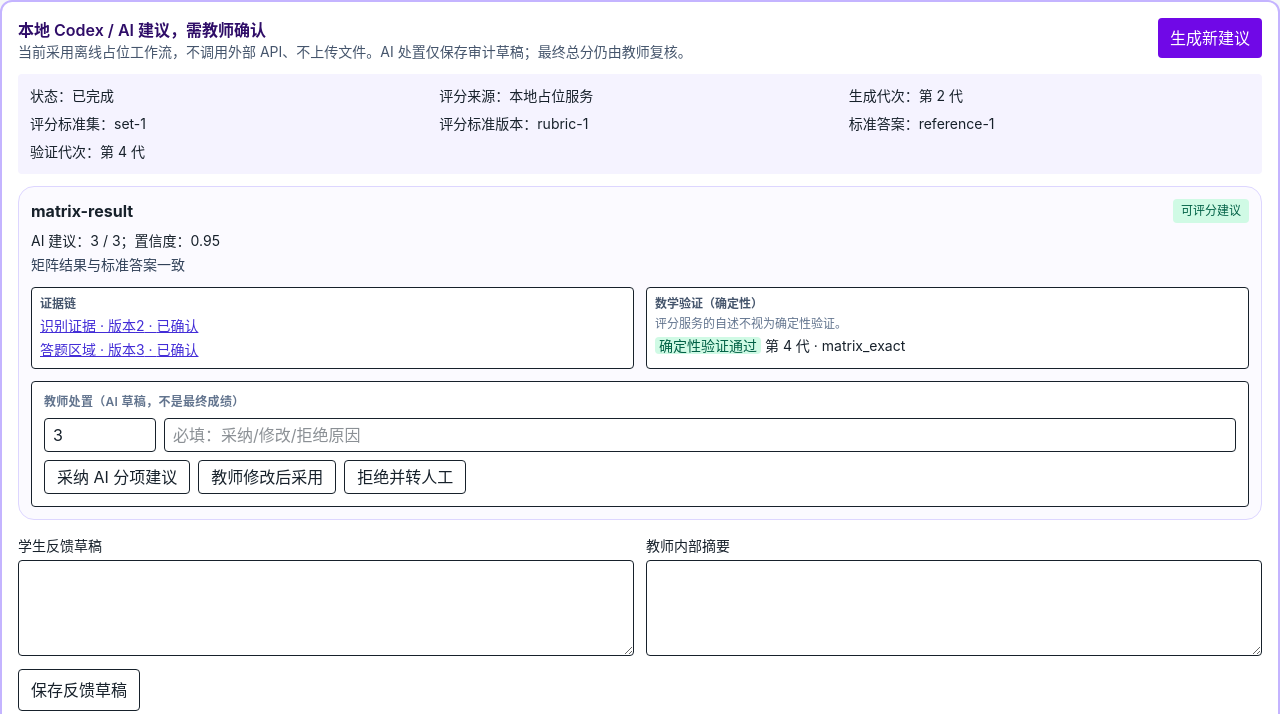
AIGradingReview › records a rejection reason and keeps manual grading available
expect the text "matrix-result" is shown: met, box [31,199,133,223]
Step 1. Type "步骤证据不足，转人工" into the field named "matrix-result 修改原因" → (700, 435), box [164,418,1236,452]
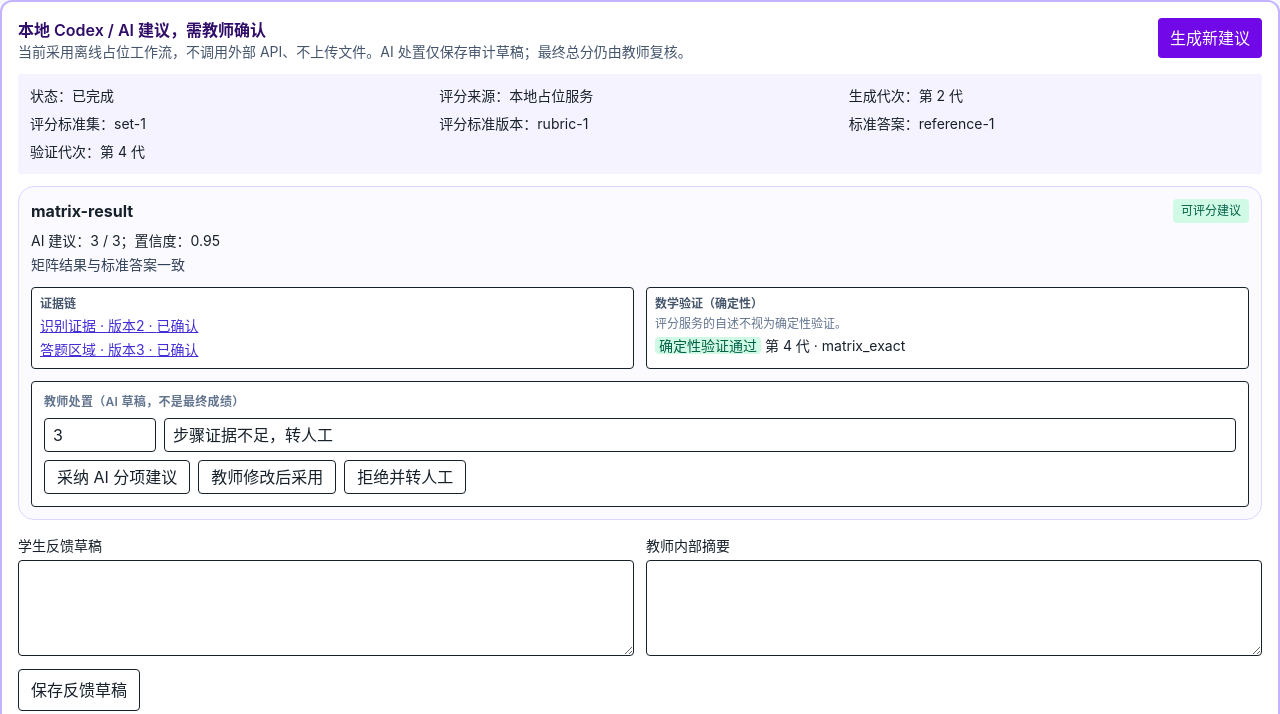
Step 2. Click the button "拒绝并转人工" → (405, 477), box [344,460,466,494]
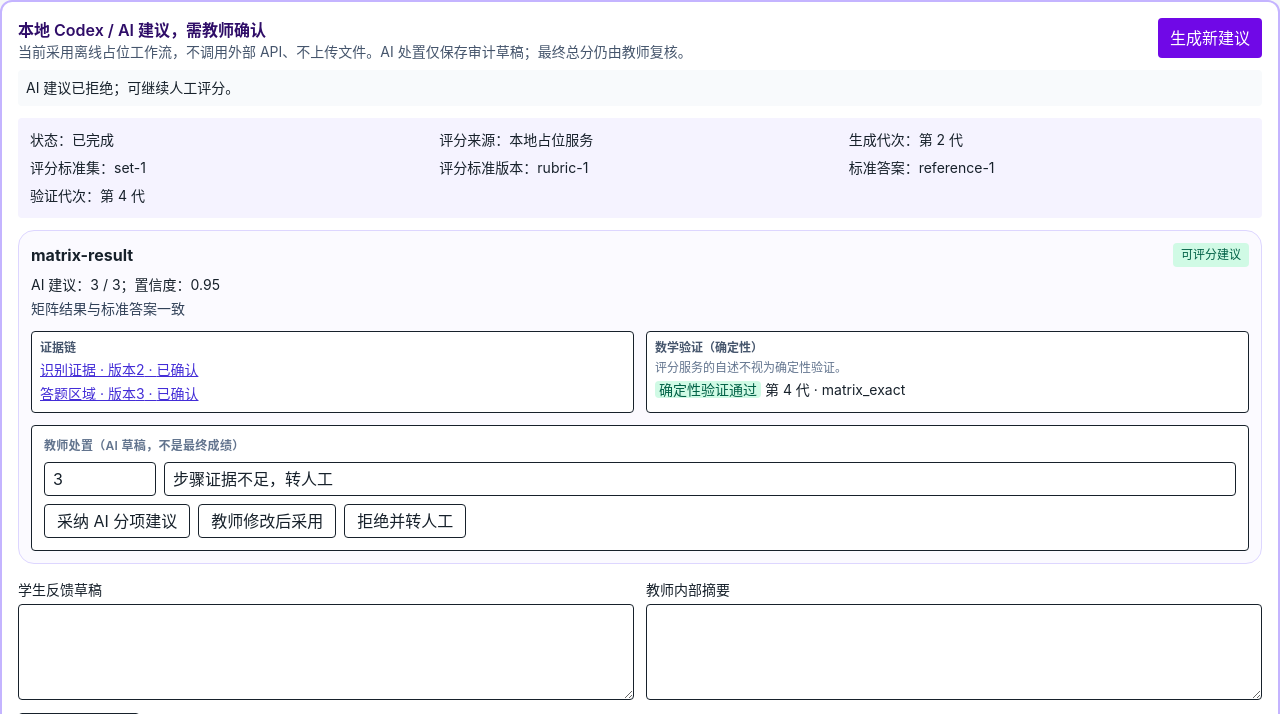
expect the message shows "人工评分": met, box [26,79,239,96]
